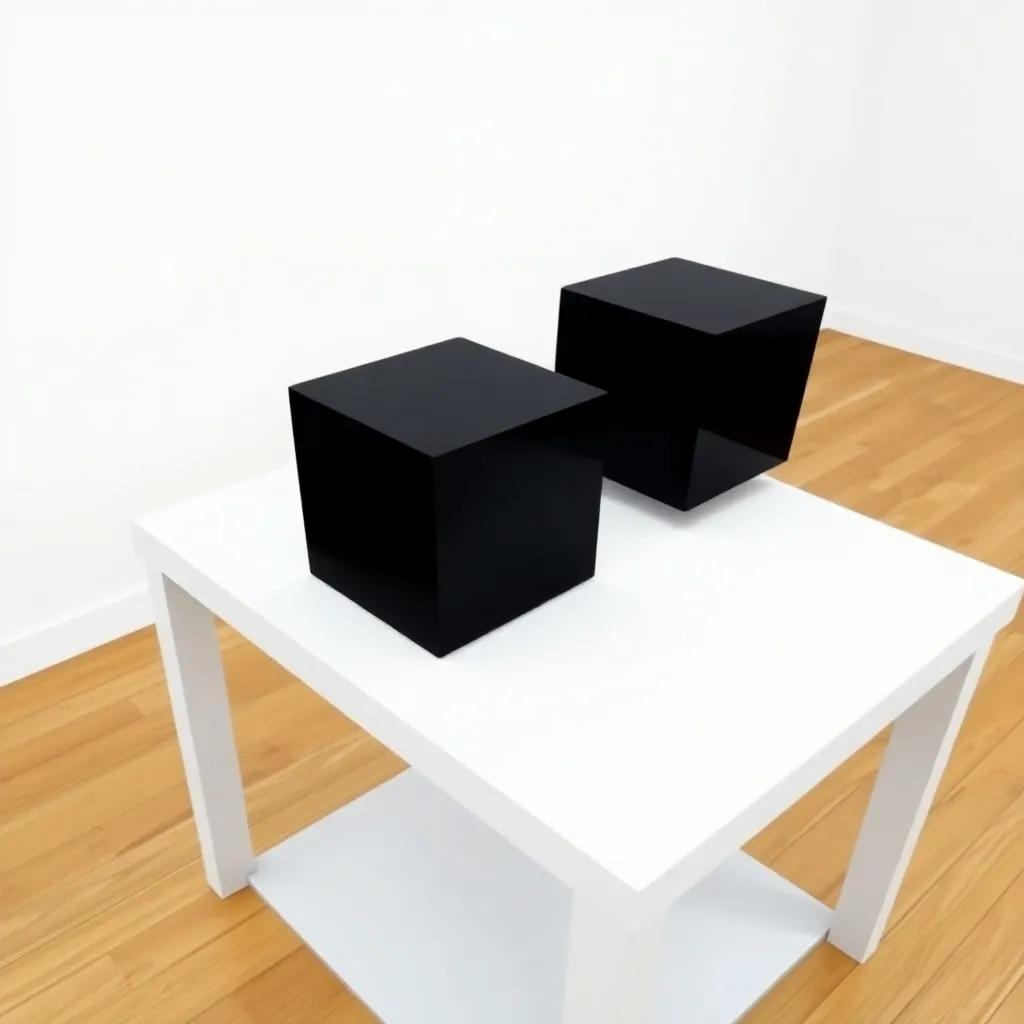cube: (287, 334, 609, 658), (553, 254, 827, 512)
